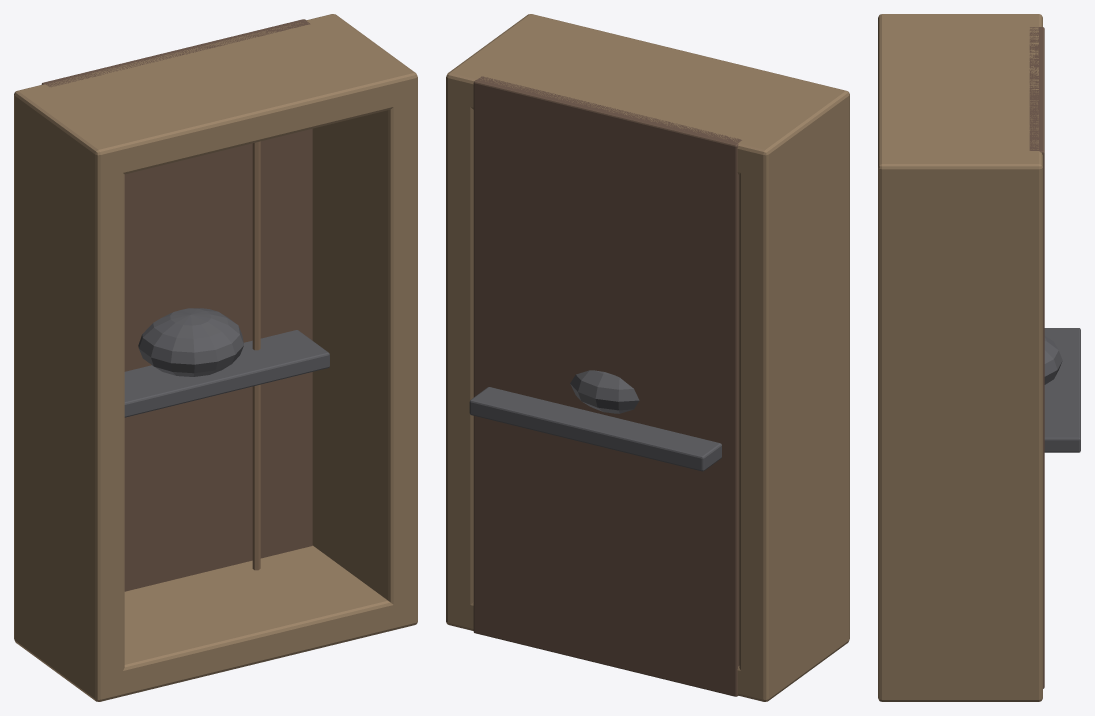
The picture shows the model from 3 angles, left to right: view 1: azimuth 30°, elevation 25°; view 2: azimuth 150°, elevation 25°; view 3: azimuth 270°, elevation 25°; orthographic projection. The views are drawn at different scales.
Parts seen in each view (by area): view 1: dumbwaiter; view 2: dumbwaiter; view 3: dumbwaiter.
Boxes of the visible parts, <box> form: dumbwaiter: <box>14,14,417,701</box>; dumbwaiter: <box>446,14,849,701</box>; dumbwaiter: <box>878,14,1080,701</box>.
Size of the model in its own units: 1.1 by 1.8 by 0.615.
